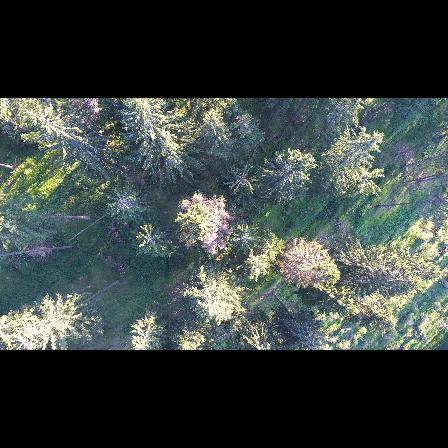Sick: (223, 155, 260, 194), (105, 185, 140, 217), (133, 224, 170, 252), (231, 223, 264, 252)
